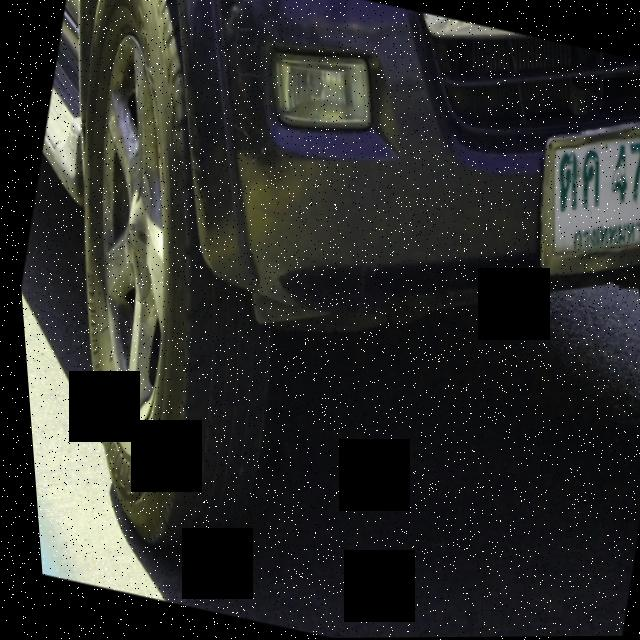text: (551, 139, 640, 255)
